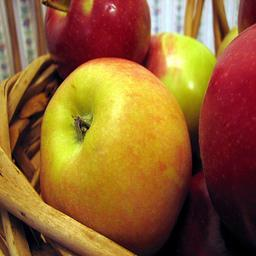apple: (39, 56, 193, 242), (195, 22, 256, 247), (45, 2, 151, 78), (146, 30, 216, 137)
